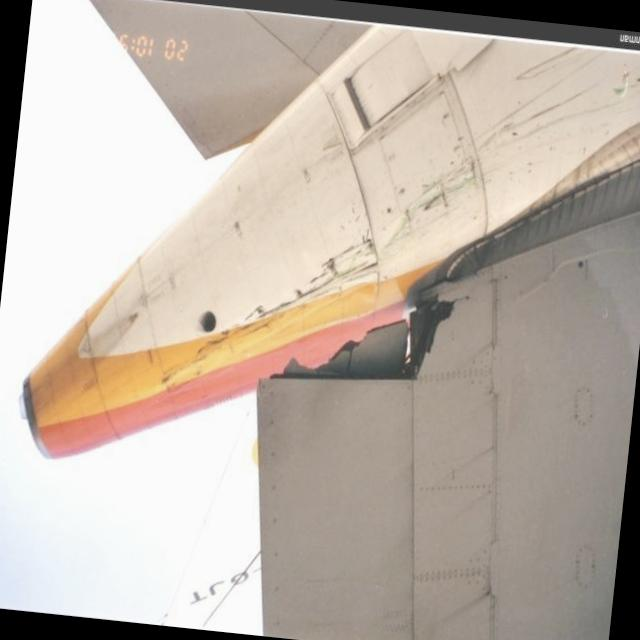crack: (261, 275, 469, 404), (270, 288, 453, 379)
